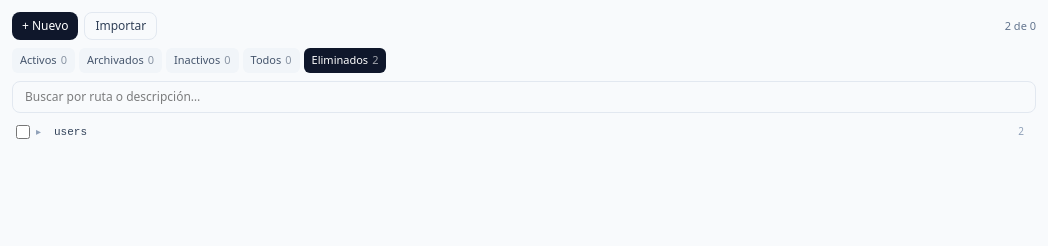
Test: la papelera de los endpoints › en lote solo se restaura: archivar, desactivar y eliminar no salen en la papelera
Step 1. Click the text "users" → (70, 132), box [54,124,87,139]
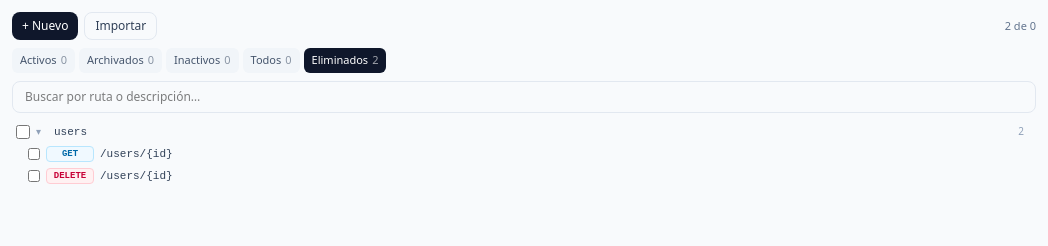
Step 2. Click the checkbox named "Seleccionar GET /users/{id}" → (34, 154), box [28,148,40,160]
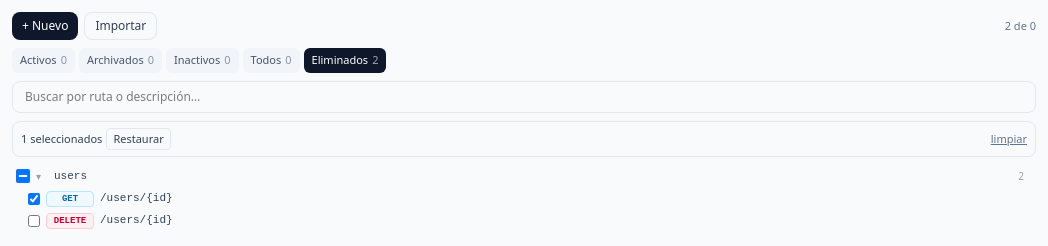
Step 3. Click the checkbox named "Seleccionar DELETE /users/{id}" → (34, 221), box [28,215,40,227]
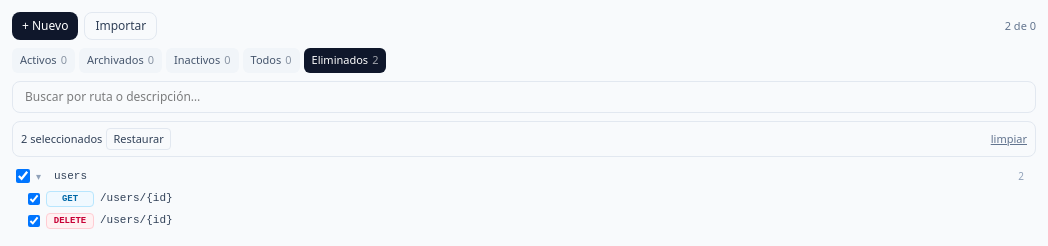
Check: the text "2 seleccionados" is shown, box [21,130,102,147]
Step 4. Click the button "Restaurar" → (139, 139), box [106,128,171,150]
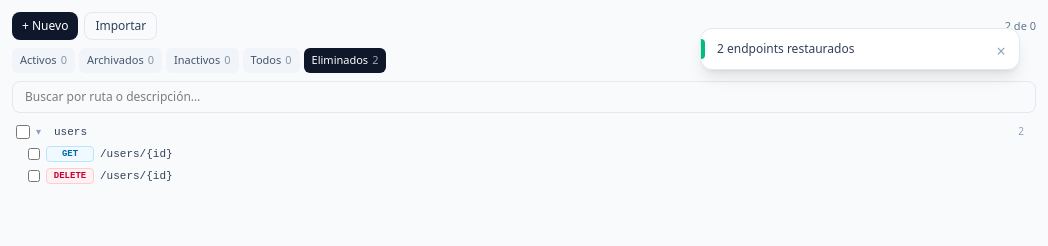
Check: the text "2 endpoints restaurados" is shown, box [717,40,854,57]
